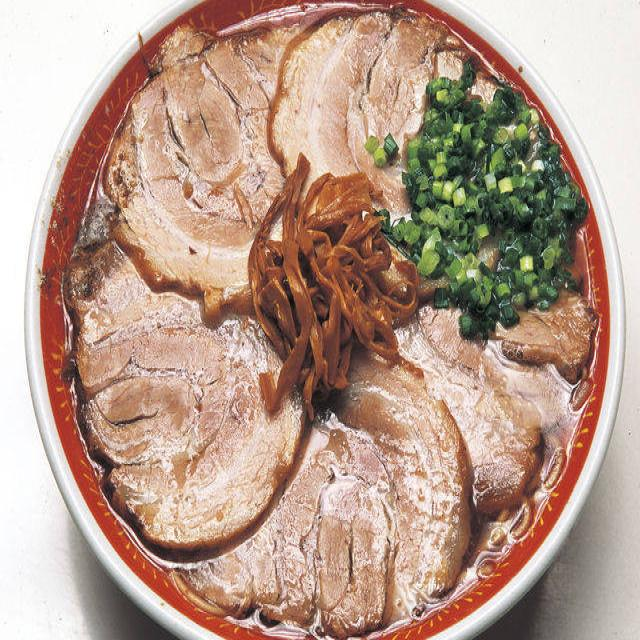面条主食: (48, 13, 454, 640)
